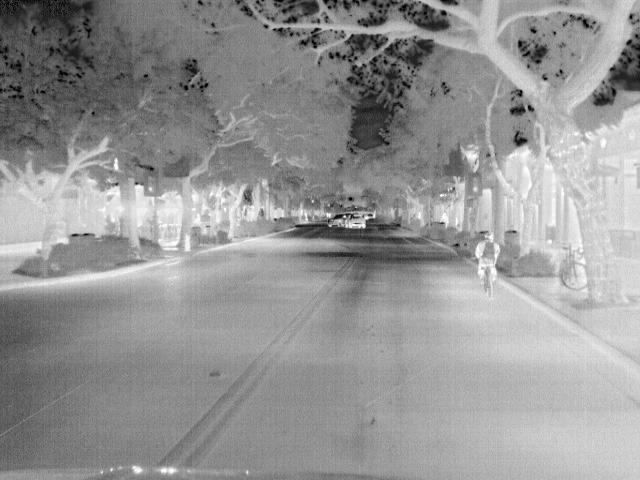car: (342, 212, 366, 229), (328, 212, 348, 230)
person: (474, 231, 498, 286), (438, 211, 450, 229)
